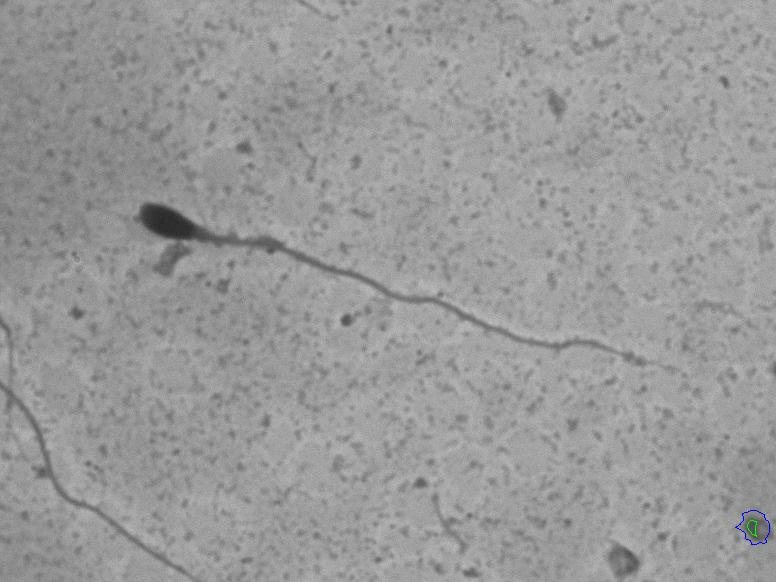Abnormal: (107, 161, 681, 395)
